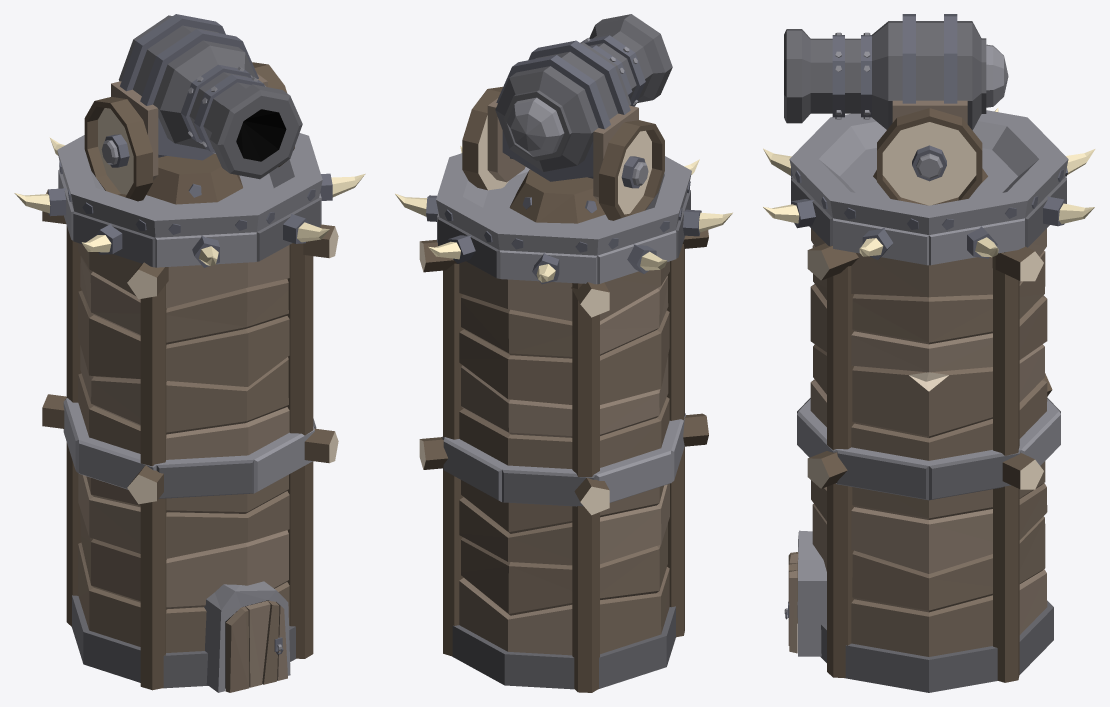
The model's file is _Cannon_tower_LVL_2.fbx.
The picture shows the model from 3 angles, left to right: view 1: azimuth 30°, elevation 25°; view 2: azimuth 150°, elevation 25°; view 3: azimuth 270°, elevation 25°; orthographic projection. The views are drawn at different scales.
Visible parts, largest first — view 1: Cannon_tower_LVL_2; view 2: Cannon_tower_LVL_2; view 3: Cannon_tower_LVL_2.
Boxes of the visible parts, x1,y1,x2,y2 form: Cannon_tower_LVL_2: (14, 14, 365, 692); Cannon_tower_LVL_2: (395, 14, 732, 692); Cannon_tower_LVL_2: (763, 14, 1095, 692).
Bounding box in the file's own units: 834 × 1723 × 834.
